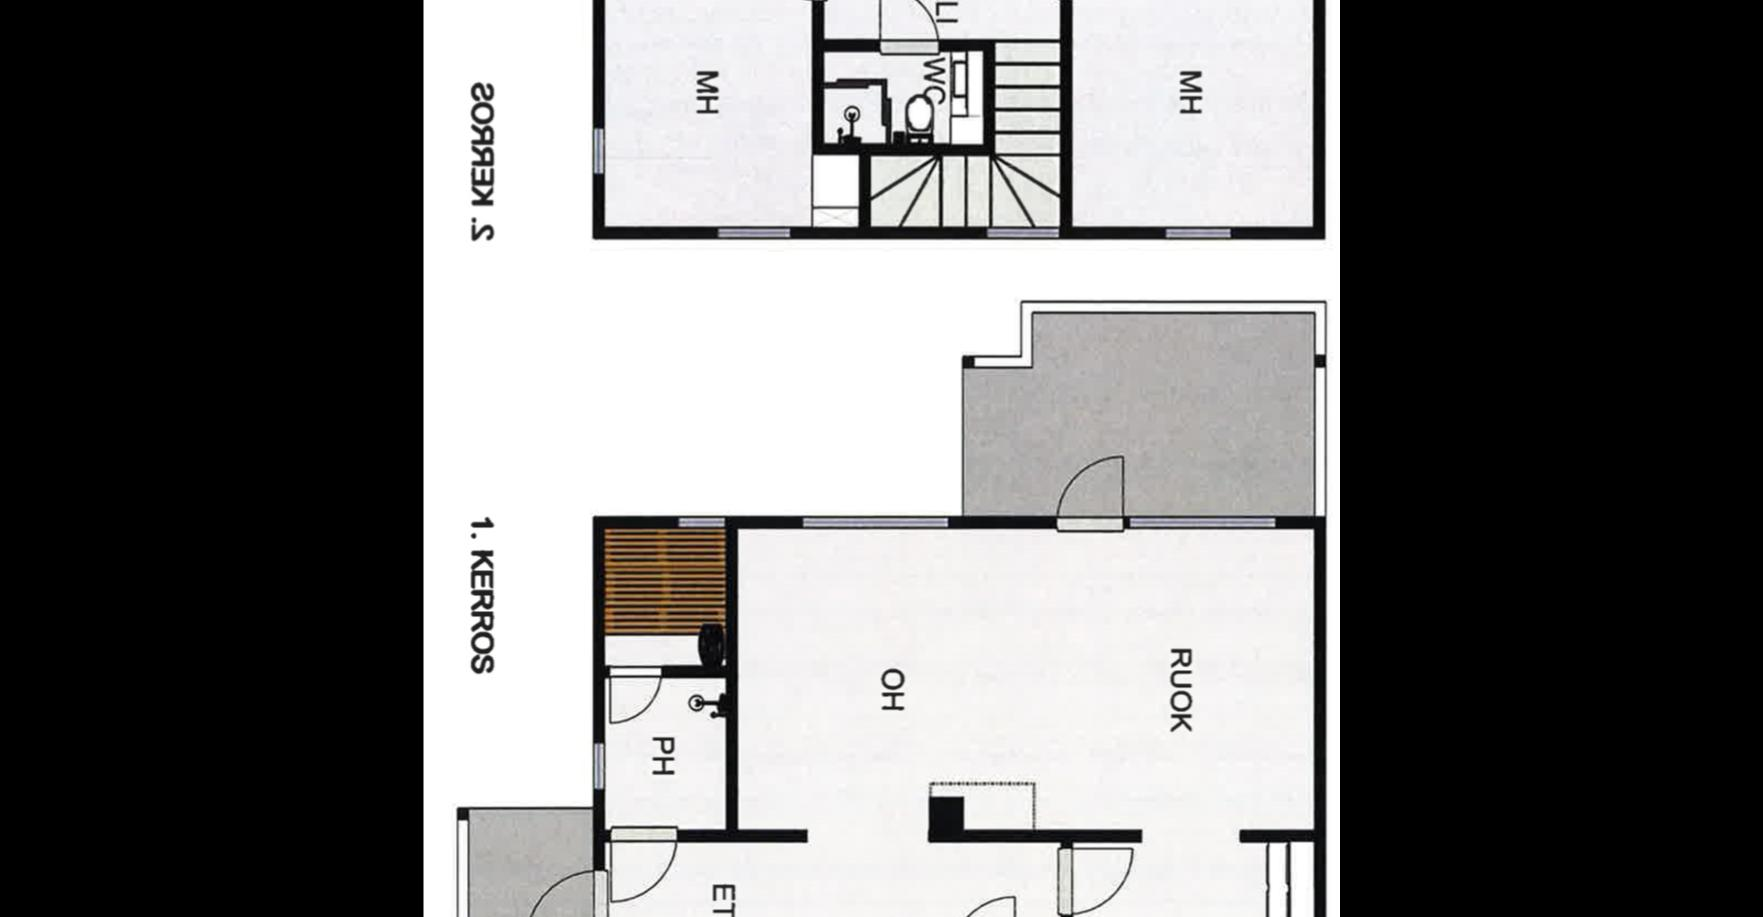door: (604, 819, 681, 909), (1055, 449, 1130, 539), (1052, 843, 1140, 917), (519, 861, 617, 917), (869, 0, 944, 62), (603, 659, 665, 730), (944, 892, 1020, 917)
window: (795, 508, 954, 535), (1121, 508, 1280, 534), (711, 217, 793, 245), (1156, 218, 1238, 245), (976, 220, 1065, 244), (583, 118, 611, 183), (672, 510, 733, 532), (589, 736, 611, 798)
